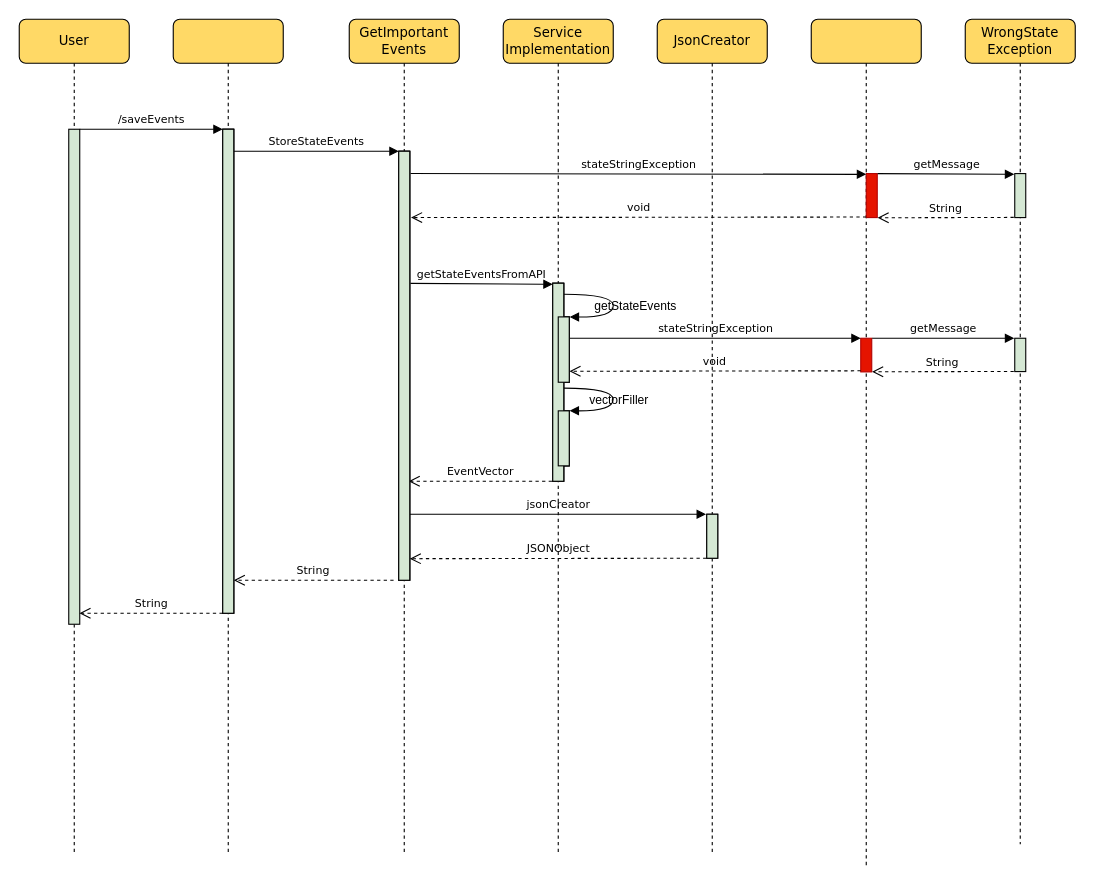
This 1095x886 diagram has some shape labels left out. The box of each missing label's shape, as (x1, y1, x2, y2) in pixels:
Controller: (172, 18, 283, 855)
Summon Exception: (810, 18, 921, 866)
